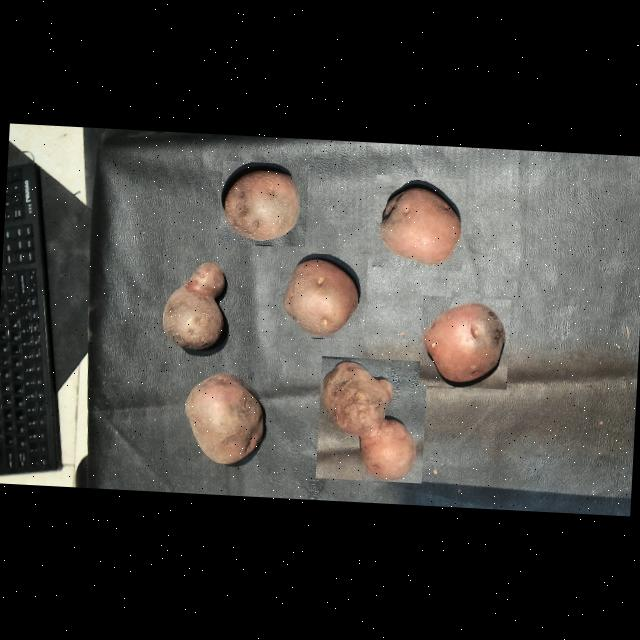Defected potato: (418, 296, 512, 390)
Diseased-fungal potato: (316, 356, 428, 484), (180, 366, 270, 472), (372, 175, 466, 272), (155, 252, 234, 359), (278, 252, 368, 340), (219, 161, 309, 247)
